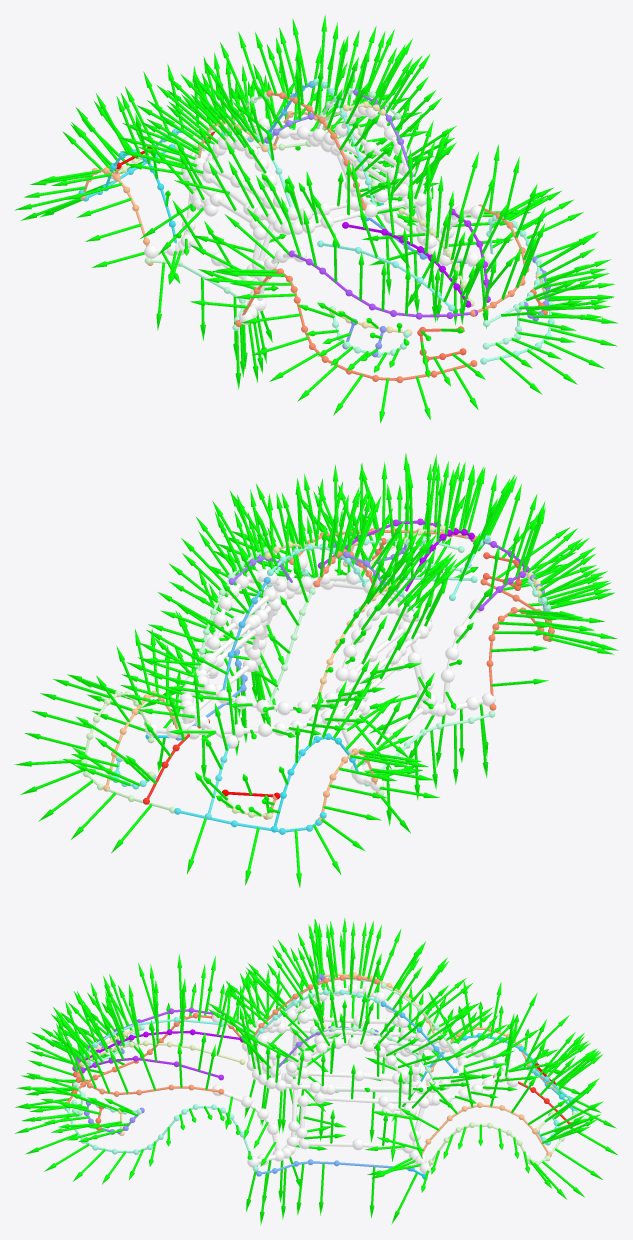
File: author1_car.gltf
3 renders of one model, top to bottom at view 1: azimuth 30°, elevation 25°; view 2: azimuth 150°, elevation 25°; view 3: azimuth 270°, elevation 25°, orthographic. The views are drawn at different scales.
Bounding box in the file's own units: 0.5899 × 0.4662 × 1.03.
